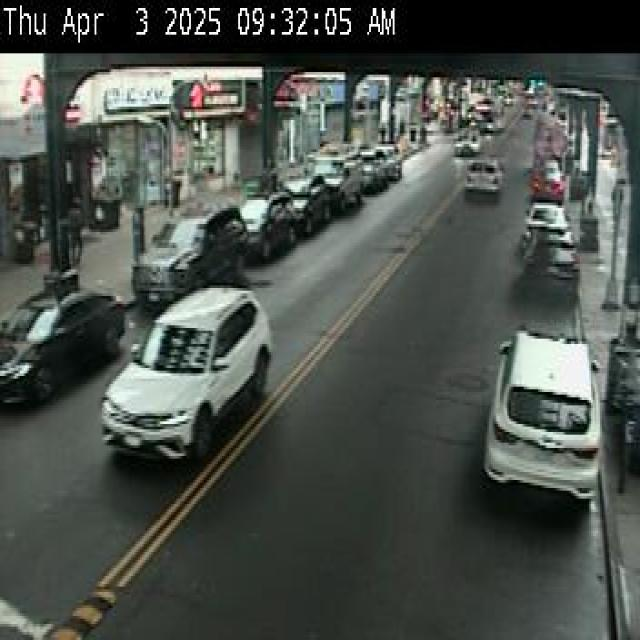open parking: (504, 257, 620, 351)
parkedCars: (480, 313, 624, 527), (132, 155, 328, 299), (518, 140, 588, 288)
